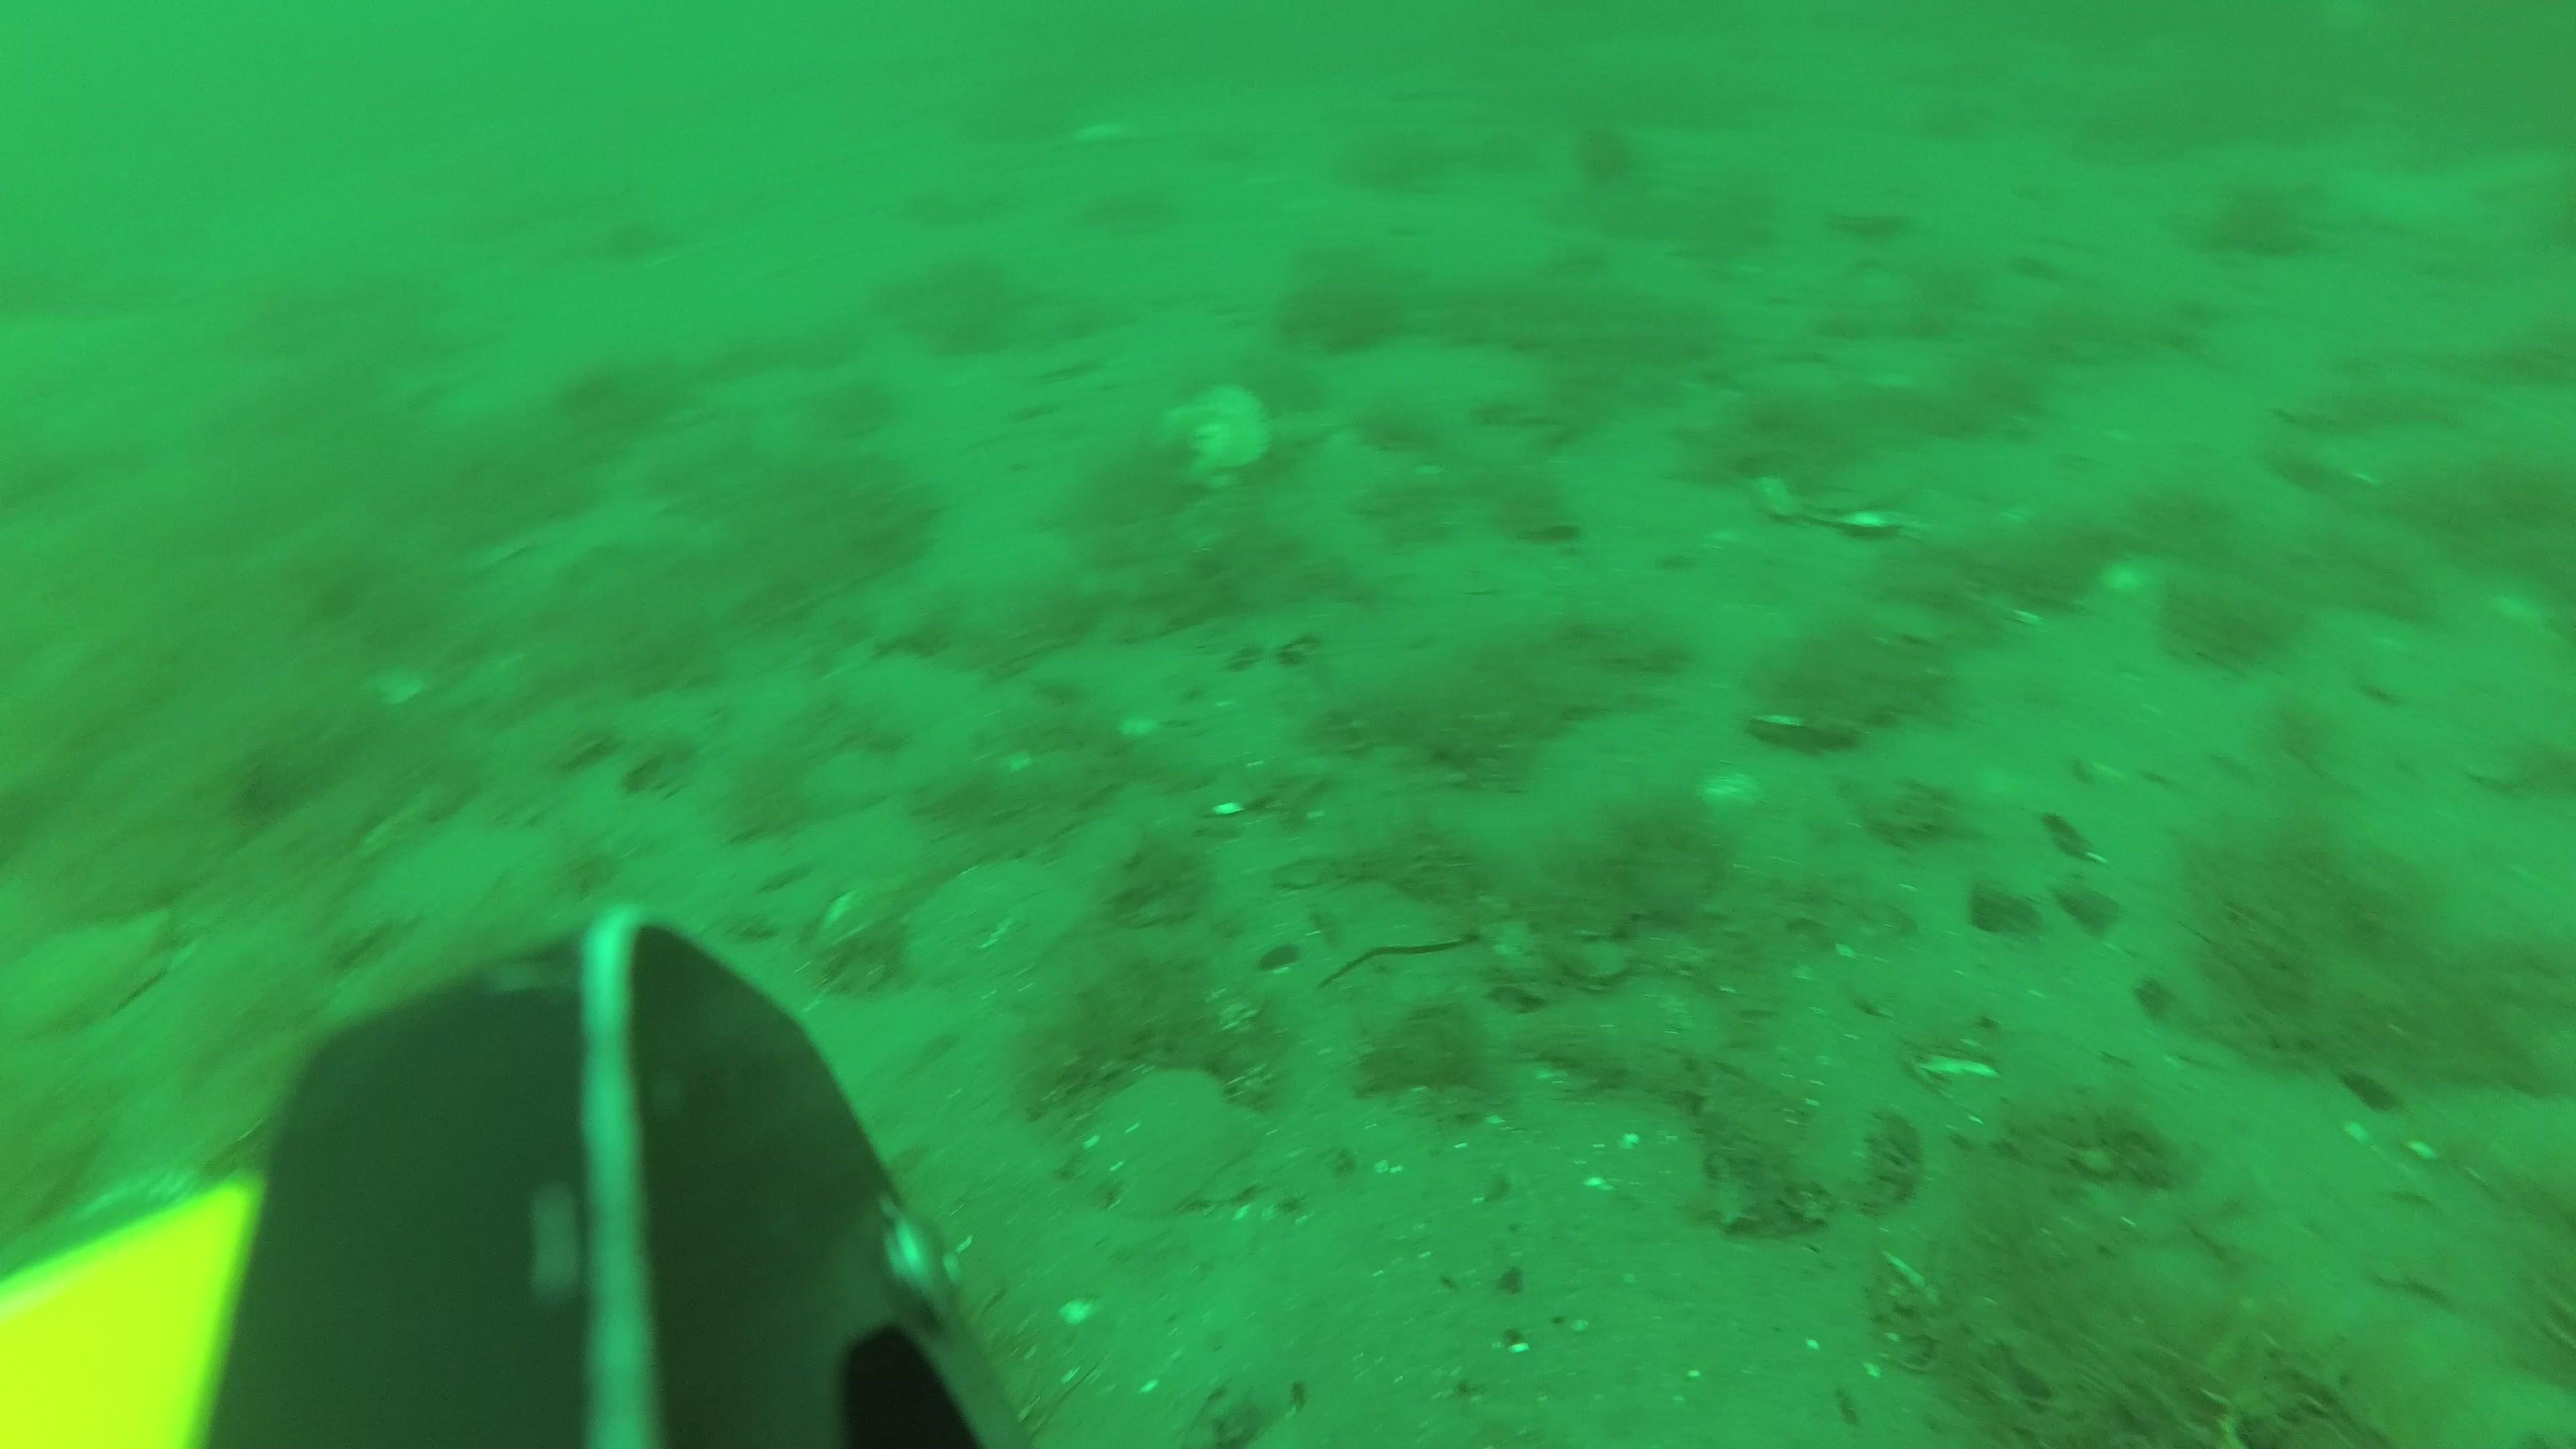scallop: (1074, 1063, 1263, 1210), (1752, 437, 1932, 533), (1148, 384, 1279, 483)
